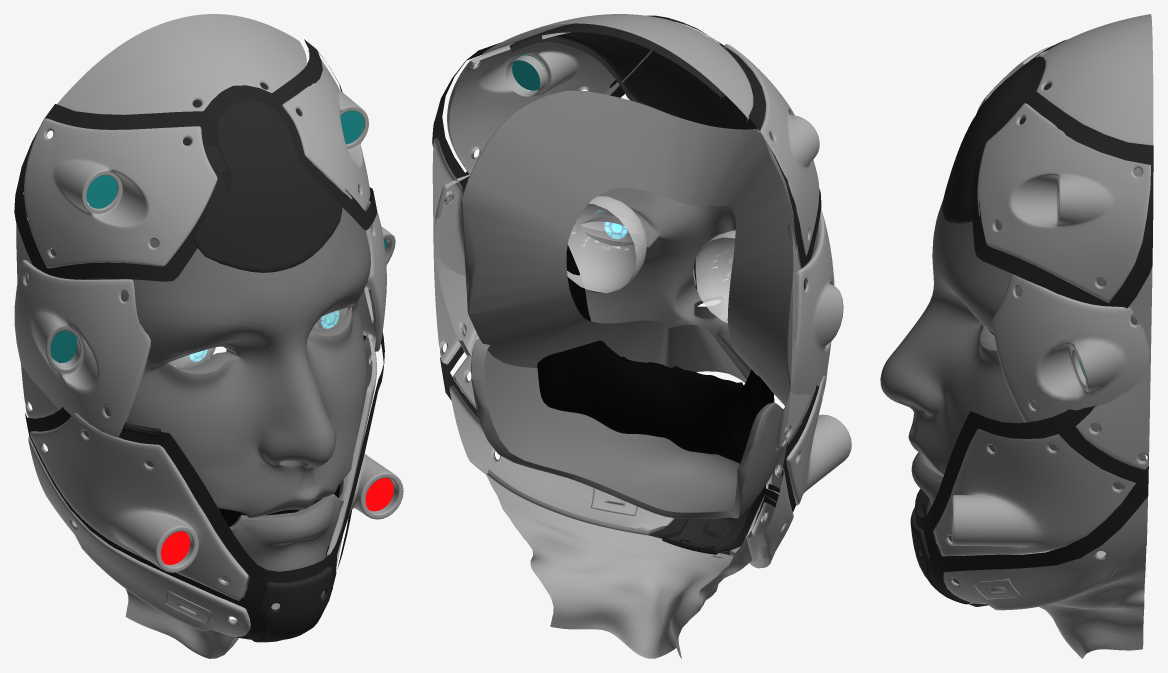
Rendered from SergioJAModel.glb.
3 views of the same model, side by side, from view 1: azimuth 30°, elevation 25°; view 2: azimuth 150°, elevation 25°; view 3: azimuth 270°, elevation 25° (orthographic). The views are drawn at different scales.
Parts seen in each view (by area): view 1: cara, Ojos superiores, ojos inferiores rojos, cinta del borde, frente, cabeza pare superior, Ojos medios, barbilla lateral, menton labios, mentonera, Ojos medios .001, cuello (+5 smaller); view 2: cara, menton labios, cuello, quijada, Ojos superiores, barbilla lateral, frente, Ojos medios, cabeza pare superior, cinta del borde, Ojo derecho, oidos (+5 smaller); view 3: Ojos superiores, cara, cinta del borde, ojos inferiores rojos, Ojos medios .001, cabeza pare superior, barbilla lateral, cuello, oidos, frente, menton labios, mentonera.
Boxes of the visible parts, x1,y1,x2,y2 form: cara: (50,207,370,518); Ojos superiores: (24,50,370,268); ojos inferiores rojos: (29,334,403,600); cinta del borde: (14,39,384,639); frente: (183,83,342,272); cabeza pare superior: (57,14,306,114); Ojos medios: (14,260,150,437); barbilla lateral: (28,436,342,636); menton labios: (220,472,349,590); mentonera: (252,566,332,642); Ojos medios .001: (358,200,395,351); cuello: (125,589,280,658); cara: (461,90,818,421); menton labios: (471,338,788,518); cuello: (481,464,752,658); quijada: (537,245,774,463); Ojos superiores: (447,42,819,255); barbilla lateral: (449,385,793,568); frente: (509,23,757,129); Ojos medios: (775,209,843,449); cabeza pare superior: (482,14,753,121); cinta del borde: (432,15,821,557); Ojo derecho: (567,196,646,293); oidos: (432,137,812,446); Ojos superiores: (977,45,1151,301); cara: (880,201,1135,474); cinta del borde: (915,39,1153,606); ojos inferiores rojos: (934,428,1135,556); Ojos medios .001: (992,273,1149,431); cabeza pare superior: (1036,14,1153,145); barbilla lateral: (943,497,1147,610); cuello: (1011,547,1146,658); oidos: (1075,168,1152,469); frente: (942,65,1051,223); menton labios: (911,452,1146,555); mentonera: (910,501,971,604).
Size of the model in its own units: 0.3303 by 0.5444 by 0.2161.
Materials: 8 (2 with a texture image).
